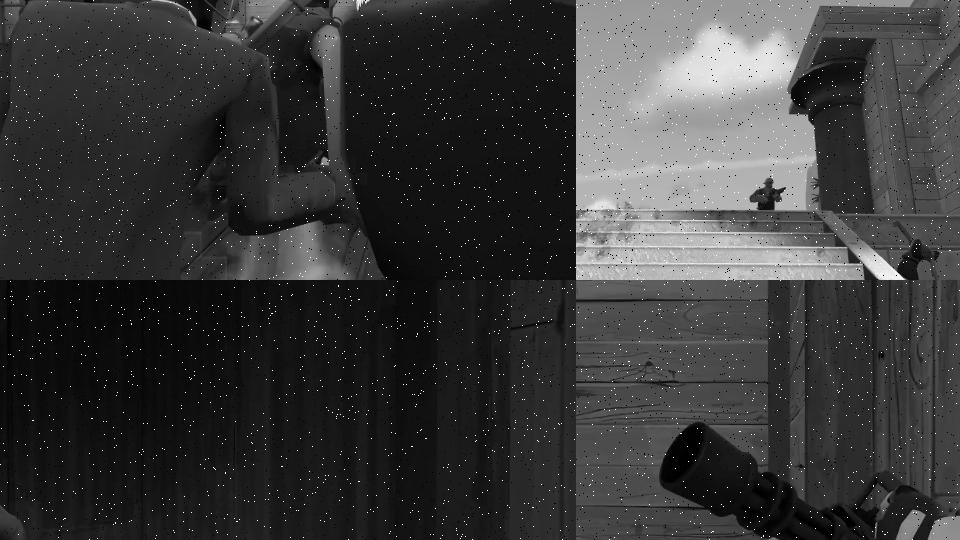Enemy: (0, 0, 338, 280), (656, 320, 960, 540), (339, 0, 576, 280), (244, 0, 339, 170), (888, 234, 947, 280), (747, 178, 800, 220)
